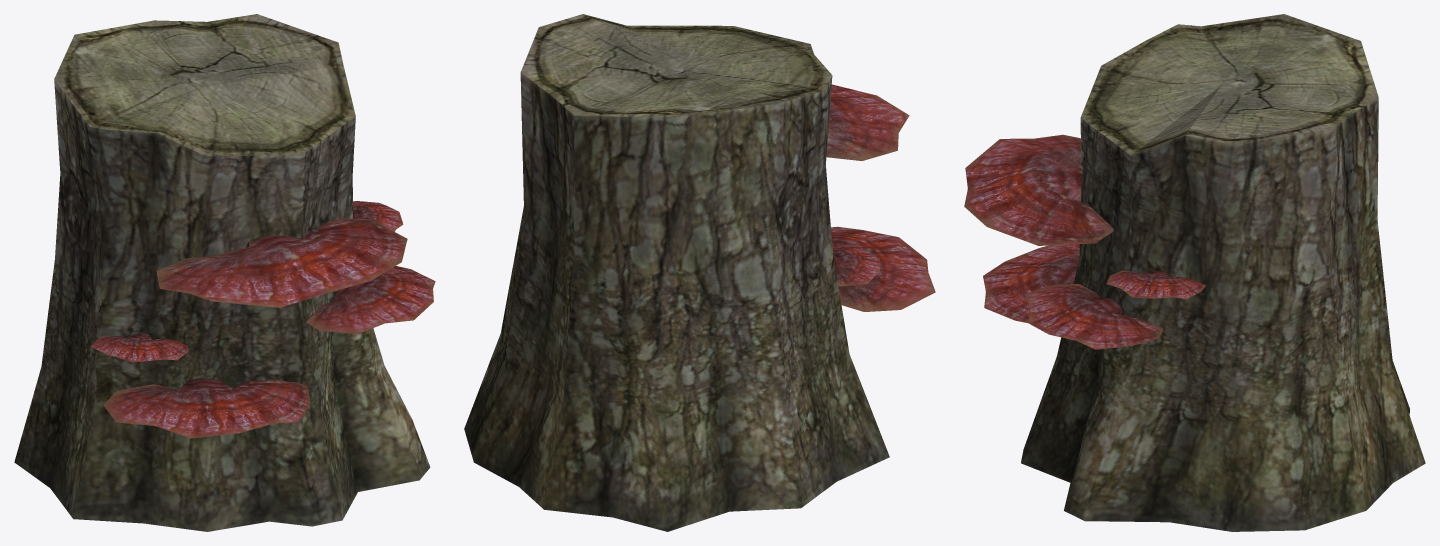
File: Ganoderma tsugae_m.FBX
3 views of the same model, side by side, from view 1: azimuth 30°, elevation 25°; view 2: azimuth 150°, elevation 25°; view 3: azimuth 270°, elevation 25° (orthographic). The views are drawn at different scales.
Parts seen in each view (by area): view 1: tree, mushroom, mushroom3, mushroom2, mushroom4, mushroom5; view 2: tree, mushroom3, mushroom, mushroom4; view 3: tree, mushroom, mushroom2, mushroom3, mushroom5.
Part boxes in pixels (x1,y1,x2,y2): tree: (14,14,430,531); mushroom: (156,218,407,307); mushroom3: (103,378,310,438); mushroom2: (306,266,435,333); mushroom4: (90,333,188,362); mushroom5: (353,201,403,231); tree: (464,14,889,531); mushroom3: (831,226,935,311); mushroom: (826,84,909,160); mushroom4: (832,244,879,286); tree: (1021,14,1425,531); mushroom: (964,134,1113,245); mushroom2: (1025,284,1163,349); mushroom3: (983,244,1079,323); mushroom5: (1106,270,1205,298).
Size of the model in its own units: 82.13 by 87.15 by 96.83.
